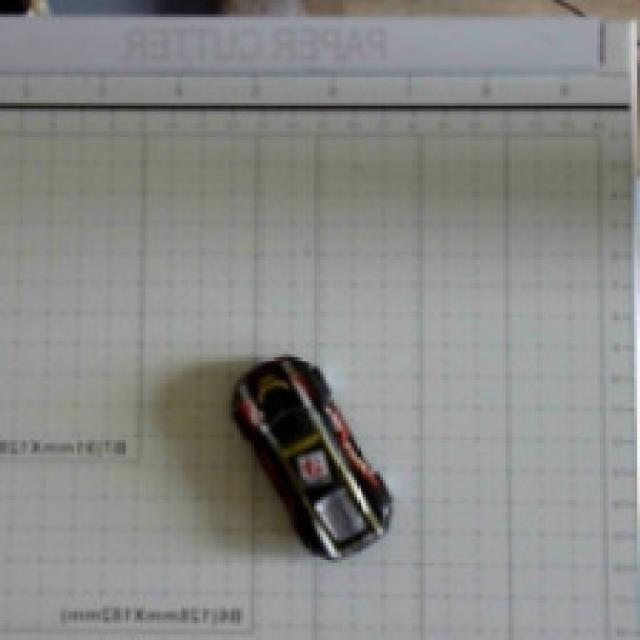Red Car: (205, 334, 459, 612)
